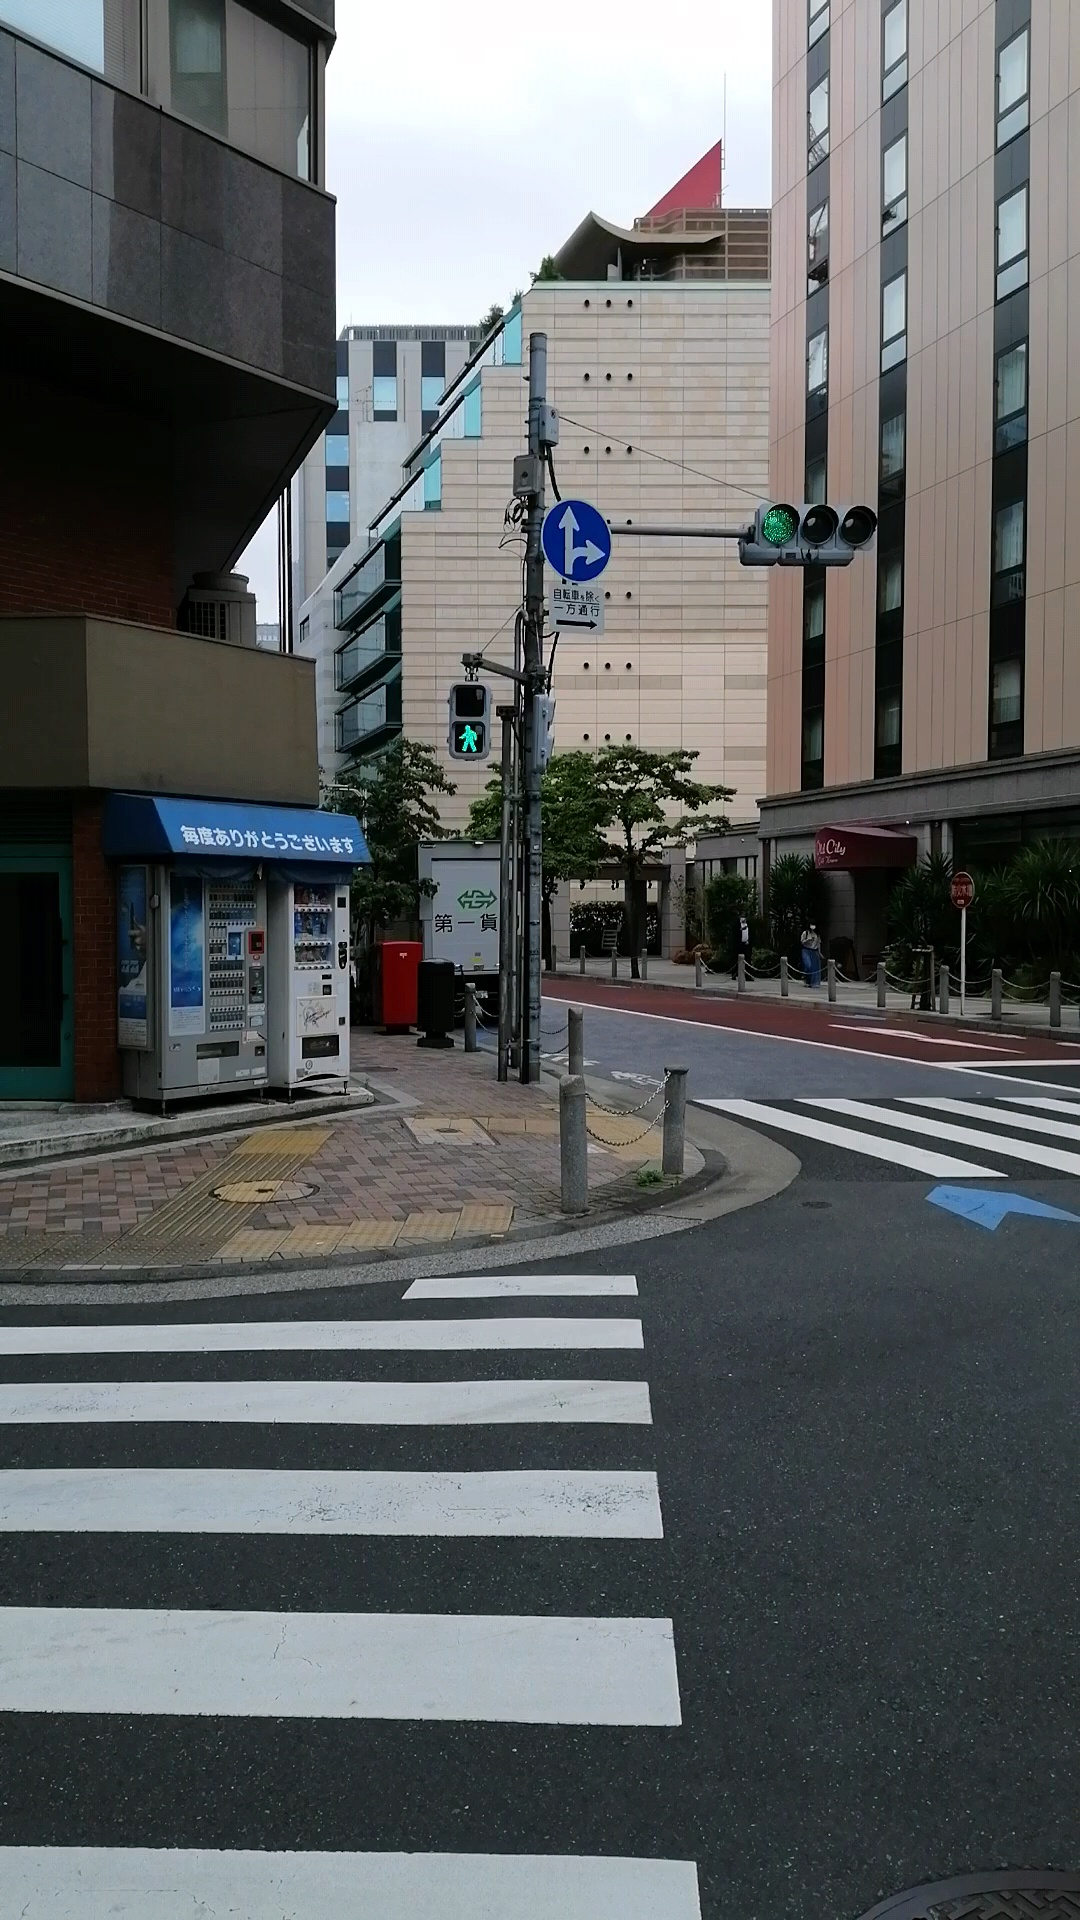green: (444, 680, 491, 762)
